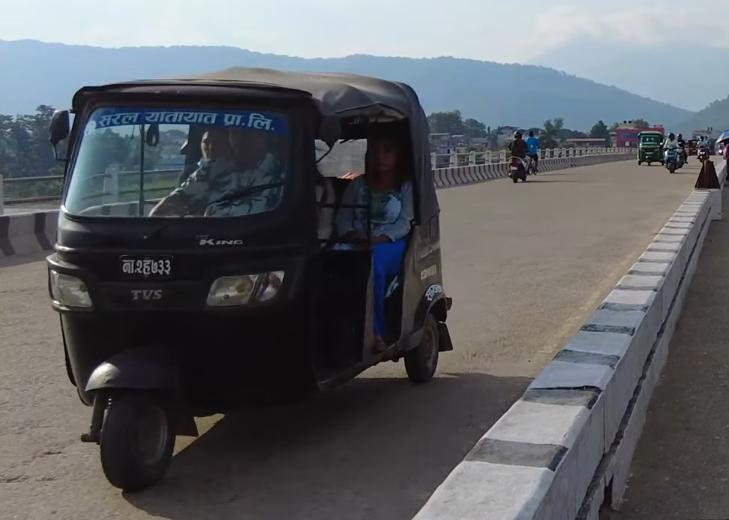auto_rickshaw: (41, 62, 465, 499), (635, 128, 668, 168)
scooter: (504, 149, 532, 185), (660, 143, 682, 175)
